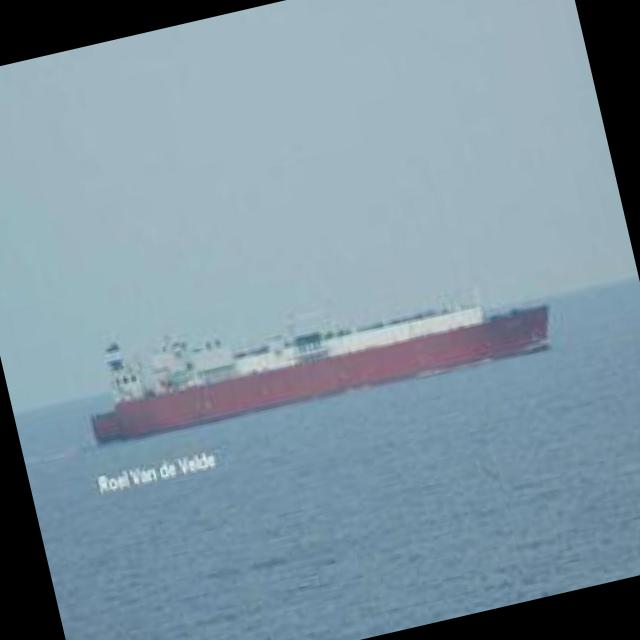boat: (62, 247, 566, 466)
